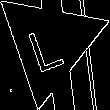L_N: (27, 15, 71, 72)
